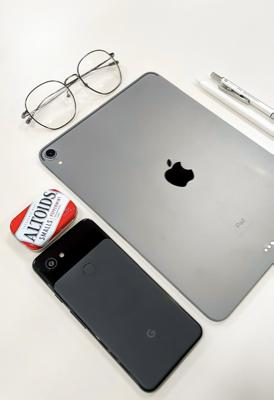cell-phone: (31, 216, 203, 396)
